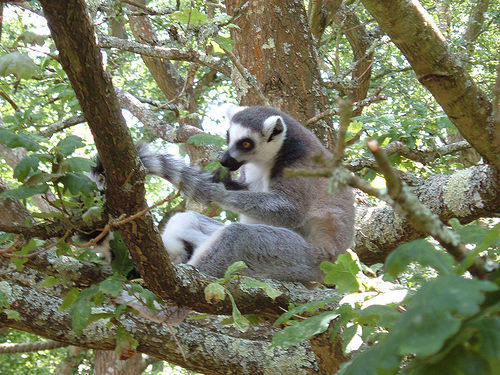cat: (109, 104, 358, 330)
